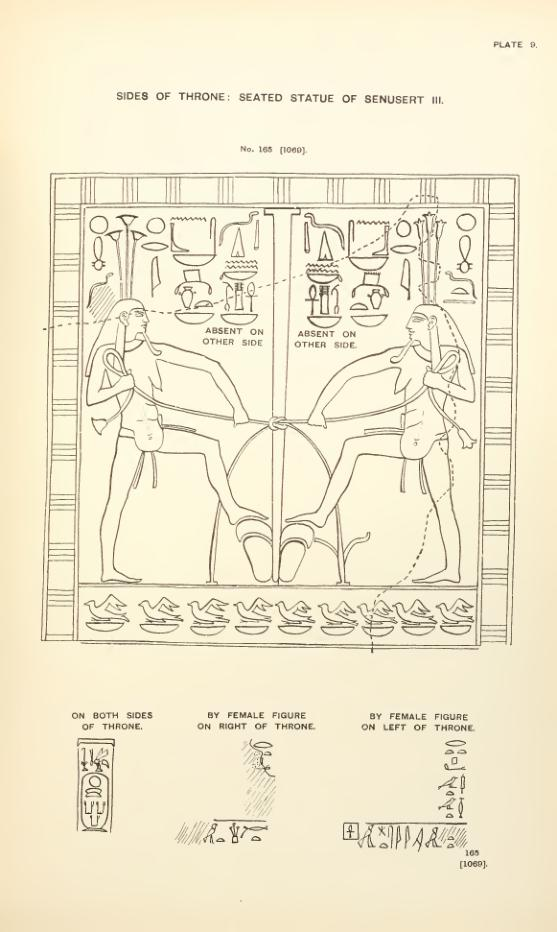circle: (80, 771, 111, 835)
